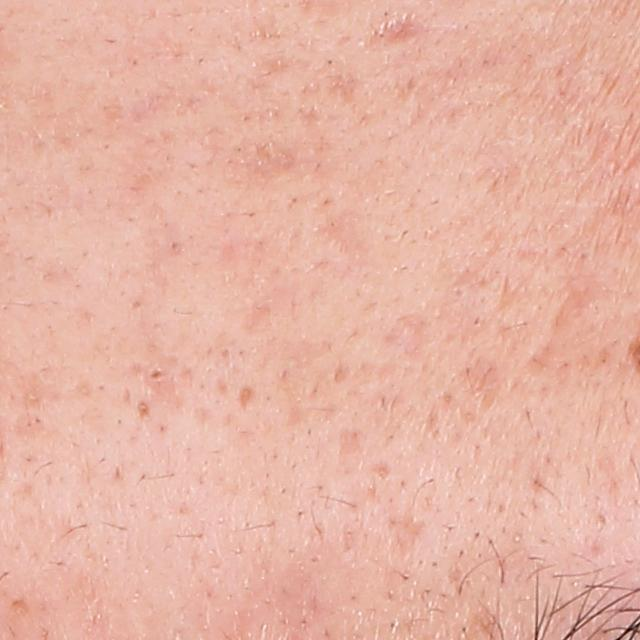atrophic_scar: (517, 273, 596, 385), (312, 210, 365, 265), (229, 142, 301, 174), (379, 311, 424, 357), (365, 12, 423, 44), (334, 424, 365, 469), (238, 300, 271, 334), (236, 381, 257, 414)
comedo: (144, 362, 168, 386), (132, 397, 153, 424)
